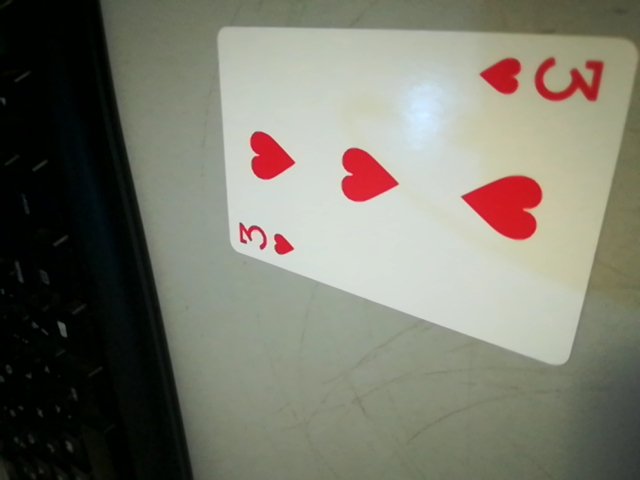hx 3: (483, 46, 615, 112)
